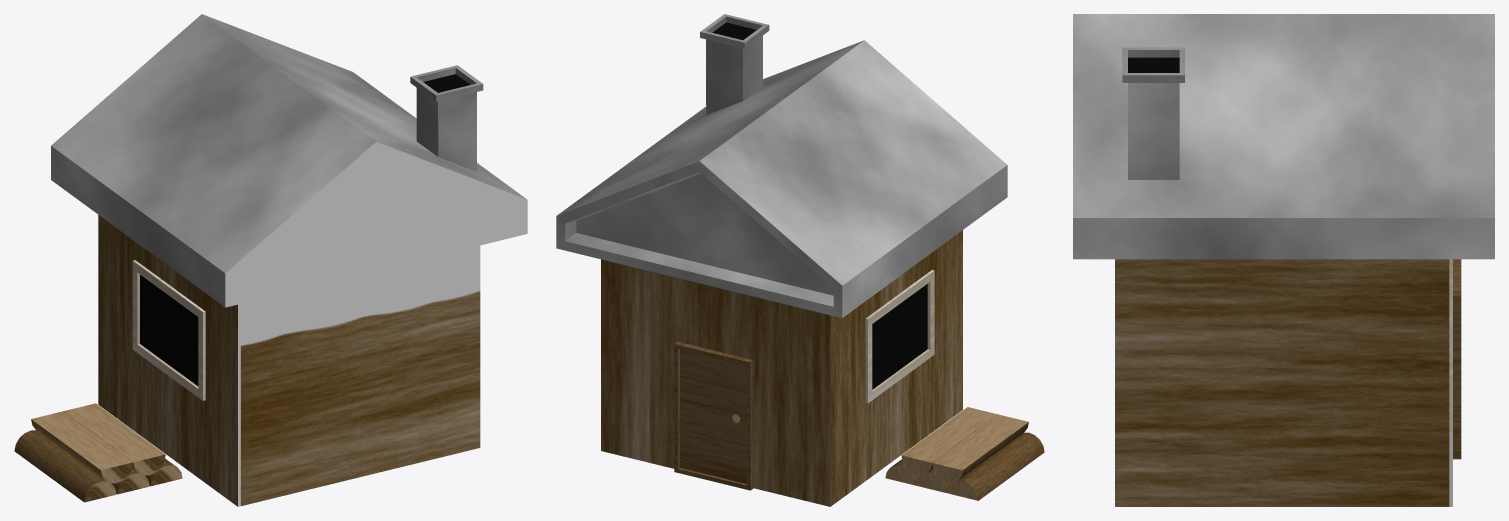
The model's file is hut.fbx.
3 views of the same model, side by side, from view 1: azimuth 30°, elevation 25°; view 2: azimuth 150°, elevation 25°; view 3: azimuth 270°, elevation 25° (orthographic). The views are drawn at different scales.
Visible parts, largest first — view 1: House, Cylinder004, Cylinder003, Cylinder005; view 2: House, Door, Cylinder004, Cylinder003, Cylinder005; view 3: House, Door.
Part boxes in pixels (x1,y1,x2,y2): House: (51, 14, 527, 506); Cylinder004: (31, 411, 133, 483); Cylinder003: (14, 430, 116, 502); Cylinder005: (63, 403, 165, 475); House: (556, 14, 1007, 506); Door: (674, 341, 753, 490); Cylinder004: (932, 414, 1028, 482); Cylinder003: (948, 432, 1044, 500); Cylinder005: (901, 407, 997, 475); House: (1073, 14, 1494, 506); Door: (1453, 259, 1461, 459).
Size of the model in its own units: 48.57 by 42.6 by 37.41.
3 materials, 3 textured.
